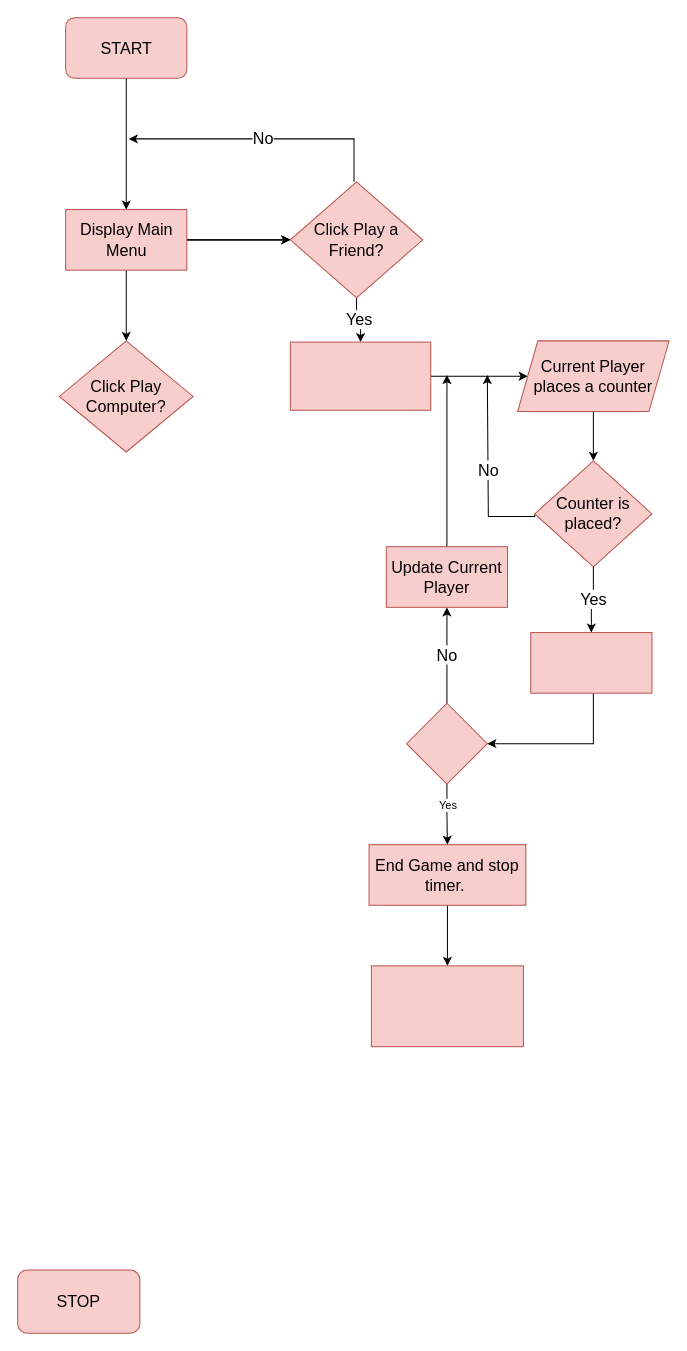
Some shapes in this 687 by 1351 pixel diagram are drawn without their labels. Each missing label, with the centre of its shape:
Display the game page with the board: the point at 360,375
Display winner and update leaderboard wins and losses: the point at 446,1006
Has Player won?: the point at 446,743
Update Board: the point at 591,662
